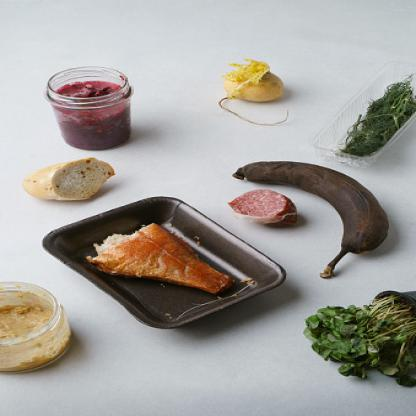banana_rotten: (226, 147, 414, 285)
